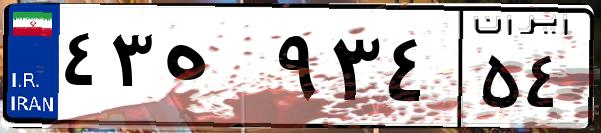3: (330, 28, 385, 110), (110, 28, 158, 98)
4: (385, 28, 445, 110), (57, 26, 110, 100), (525, 38, 570, 115)
5: (475, 38, 525, 113)
9: (270, 28, 330, 110)
ه: (158, 20, 270, 120)
